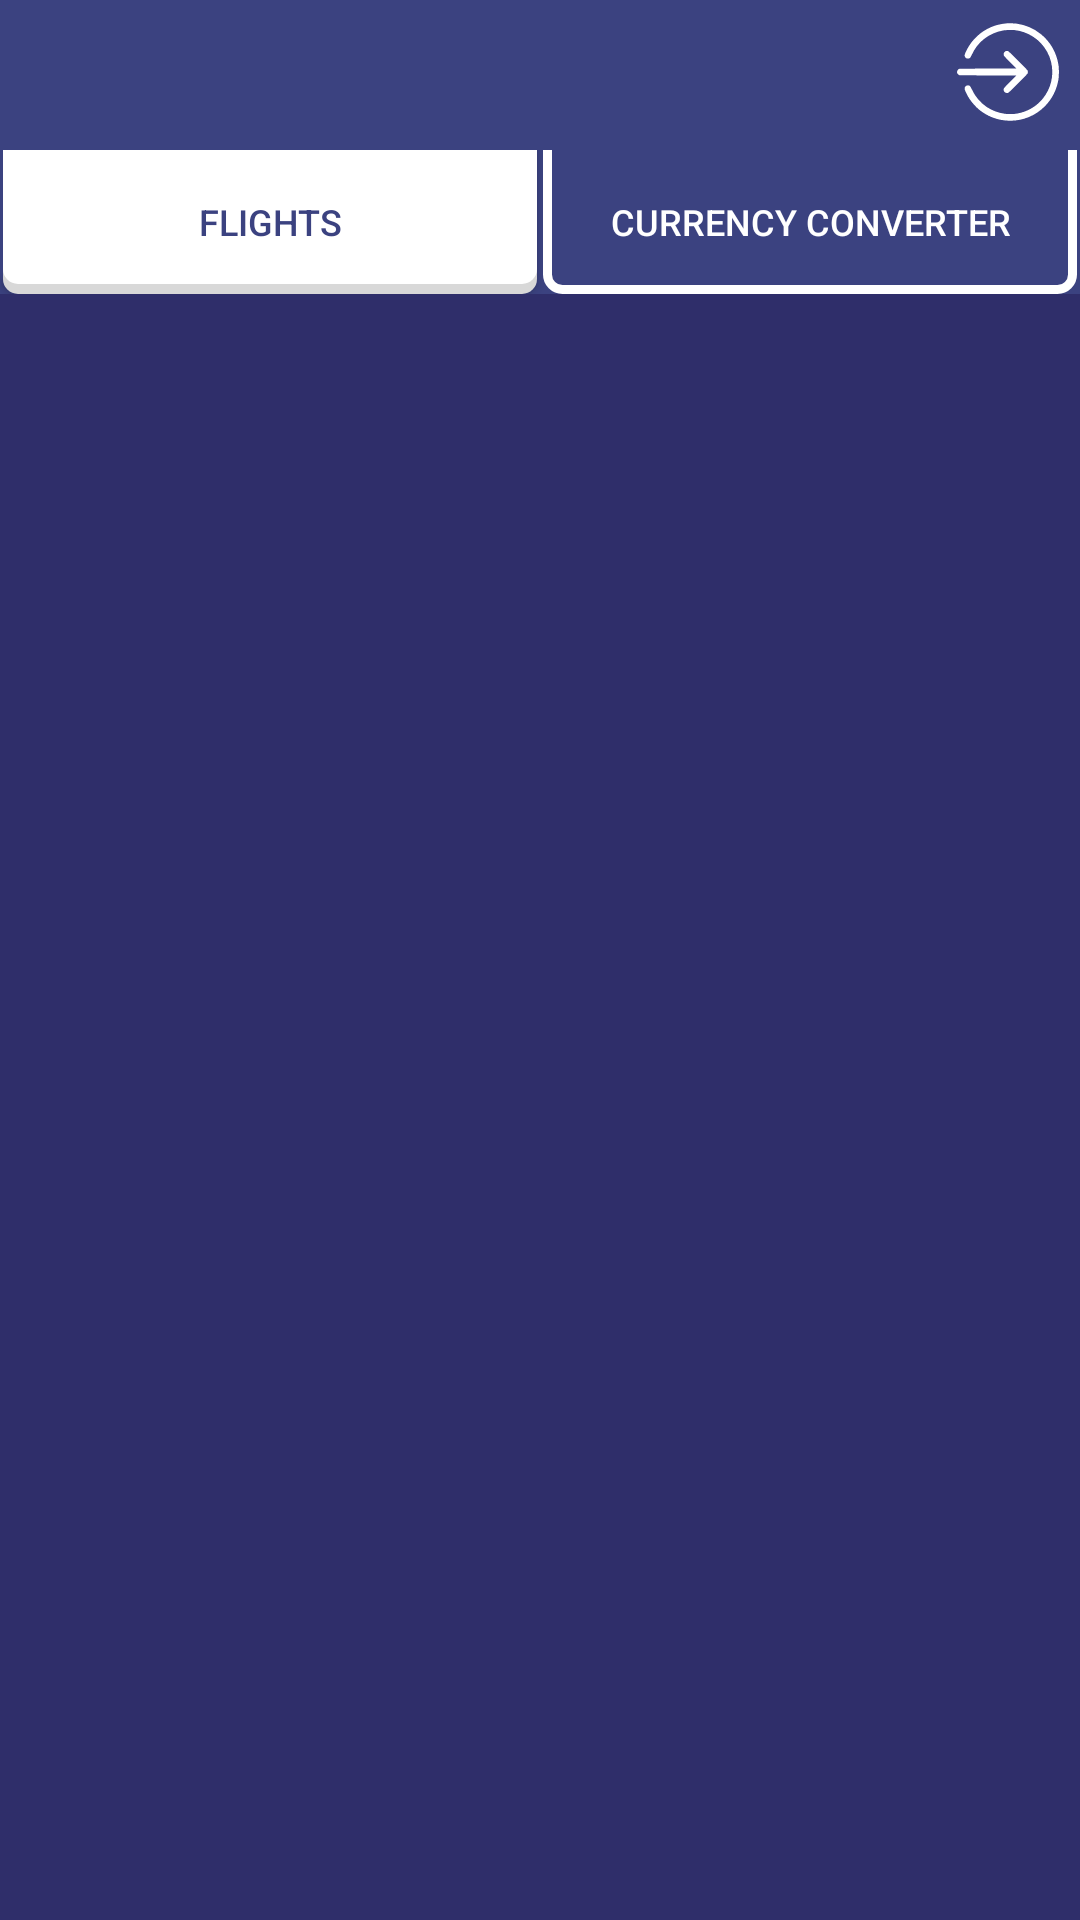

Icons on this 1080 × 1920 Android screen, each with its box as [x1, y1, x2, y2]:
login: [957, 23, 1059, 121]
